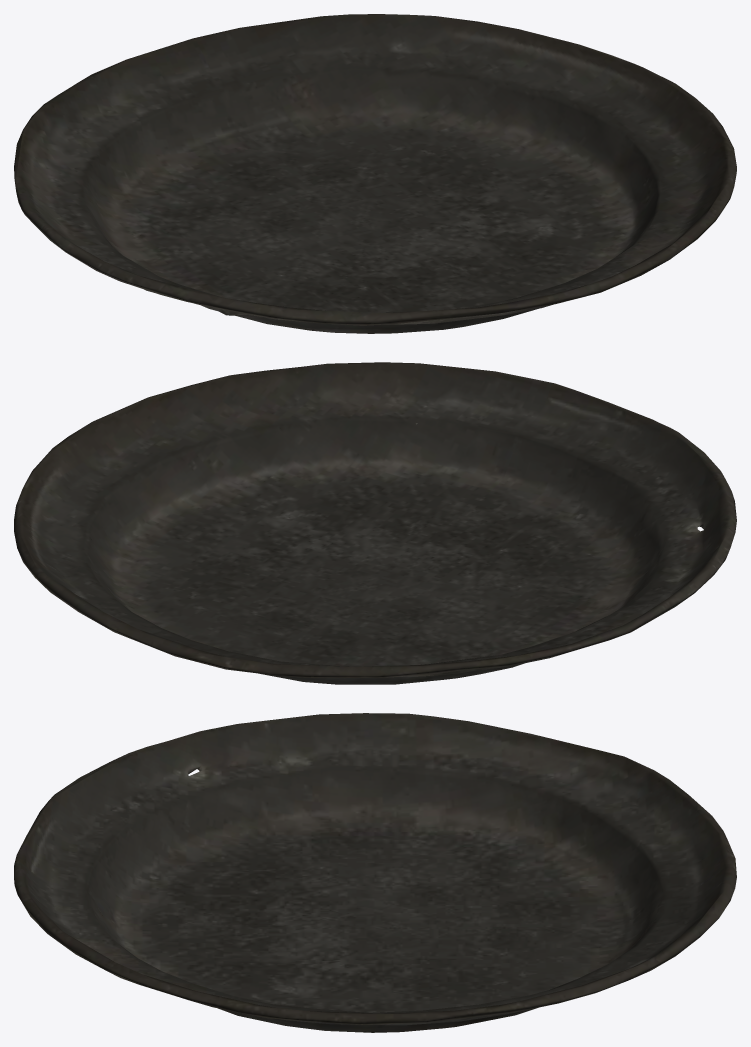
Rendered from plate_dark.glb.
3 views of the same model, one above another, from view 1: azimuth 30°, elevation 25°; view 2: azimuth 150°, elevation 25°; view 3: azimuth 270°, elevation 25° (orthographic).
Visible parts, largest first — view 1: xixlcj1mw_LOD0_TIER2_000; view 2: xixlcj1mw_LOD0_TIER2_000; view 3: xixlcj1mw_LOD0_TIER2_000.
Boxes of the visible parts, x1,y1,x2,y2 form: xixlcj1mw_LOD0_TIER2_000: (14,14,736,333); xixlcj1mw_LOD0_TIER2_000: (14,362,736,684); xixlcj1mw_LOD0_TIER2_000: (14,713,736,1032).
Bounding box in the file's own units: 0.2173 × 0.0231 × 0.2177.
Materials: 1 (1 with a texture image).
